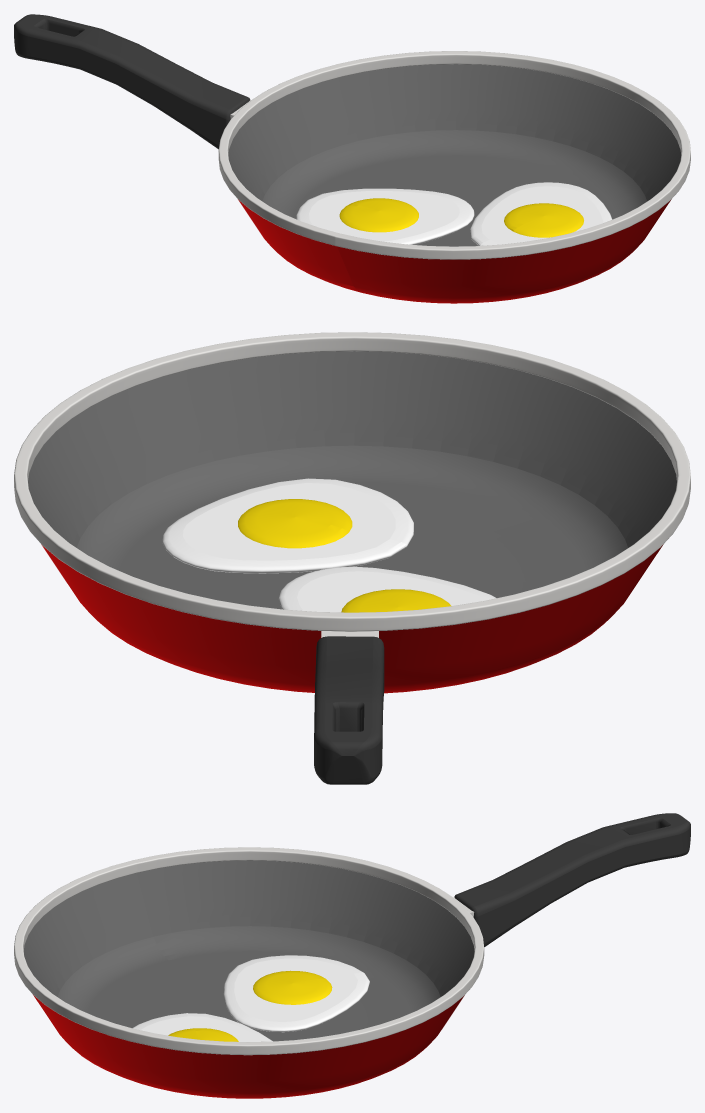
Rendered from frypan.gltf.
The picture shows the model from 3 angles, top to bottom: view 1: azimuth 30°, elevation 25°; view 2: azimuth 150°, elevation 25°; view 3: azimuth 270°, elevation 25°; orthographic projection. The views are drawn at different scales.
Parts seen in each view (by area): view 1: FRYPAN, EGG, EGG2; view 2: FRYPAN, EGG2, EGG; view 3: FRYPAN, EGG, EGG2.
Boxes of the visible parts, box(x1,y1,x2,y2) form: FRYPAN: box(14, 14, 690, 303); EGG: box(296, 188, 474, 244); EGG2: box(470, 182, 612, 245); FRYPAN: box(14, 332, 690, 784); EGG2: box(162, 478, 413, 573); EGG: box(278, 566, 496, 612); FRYPAN: box(14, 813, 690, 1098); EGG: box(223, 955, 369, 1032); EGG2: box(132, 1013, 272, 1041).
Bounding box in the file's own units: 0.0346 × 0.00804 × 0.0472.
